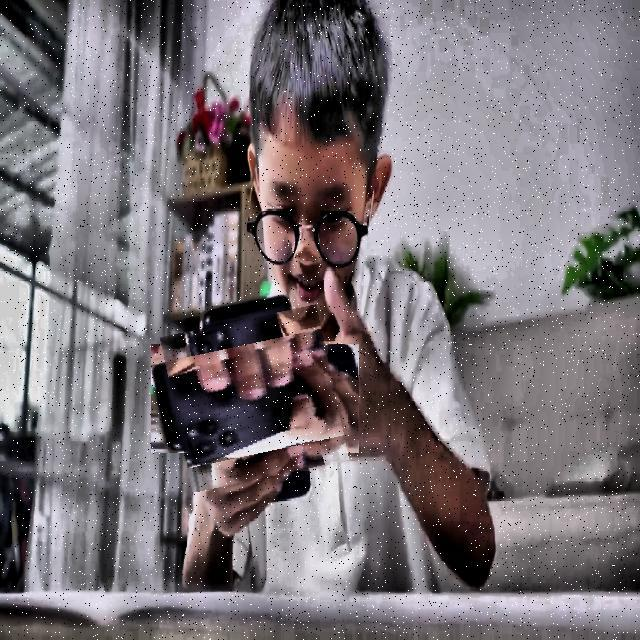Phone: (168, 312, 342, 486)
